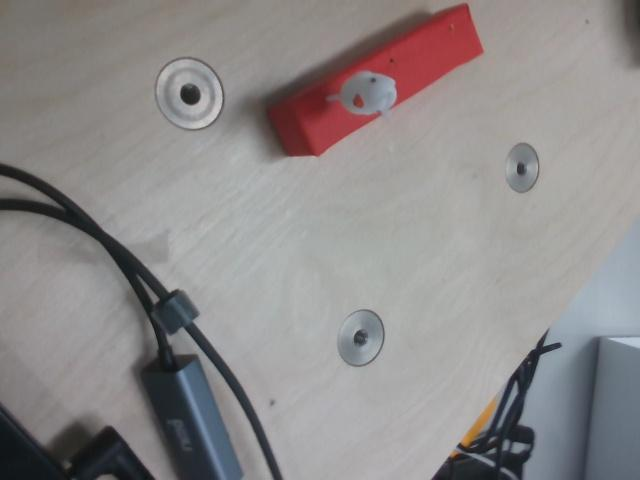w_duck: (322, 67, 400, 125)
